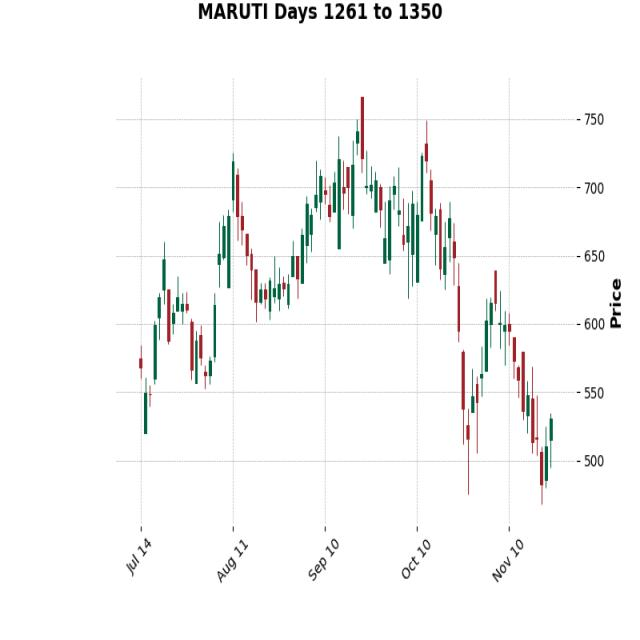Head and Shoulder: (205, 88, 454, 310)
